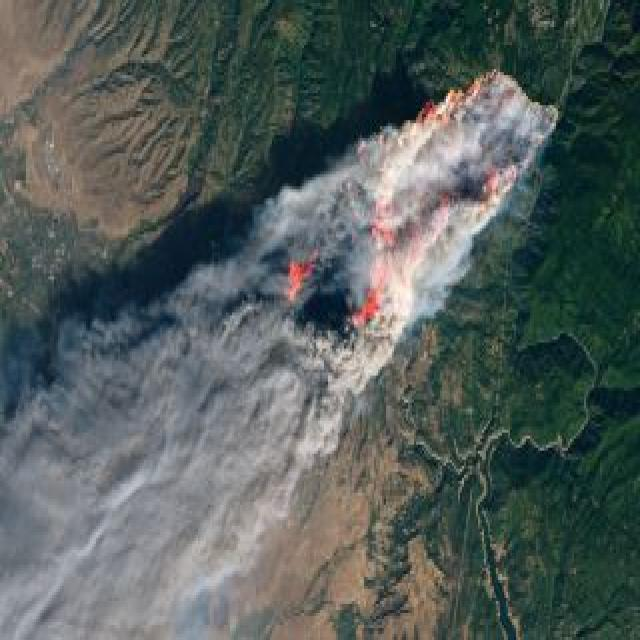Fire: (354, 286, 397, 354), (272, 246, 321, 304)
Smoke: (0, 95, 506, 640)
